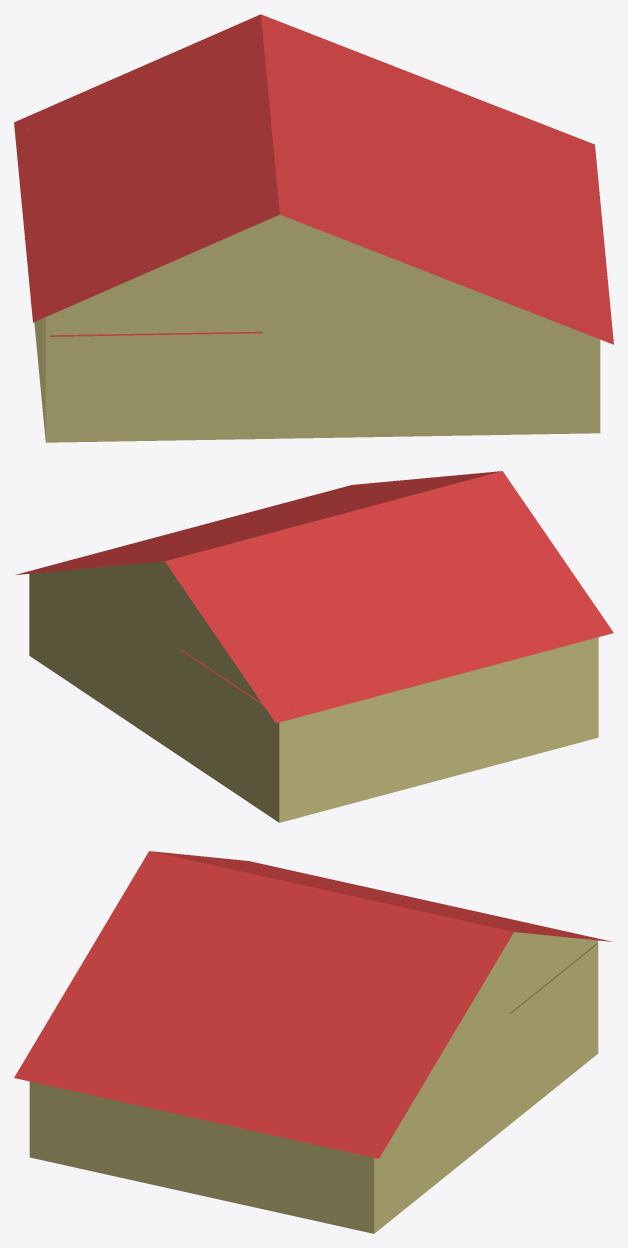
3 renders of one model, top to bottom at view 1: azimuth 30°, elevation 25°; view 2: azimuth 150°, elevation 25°; view 3: azimuth 270°, elevation 25°, orthographic. The views are drawn at different scales.
Bounding box in the file's own units: 41.49 × 38.95 × 14.31.
